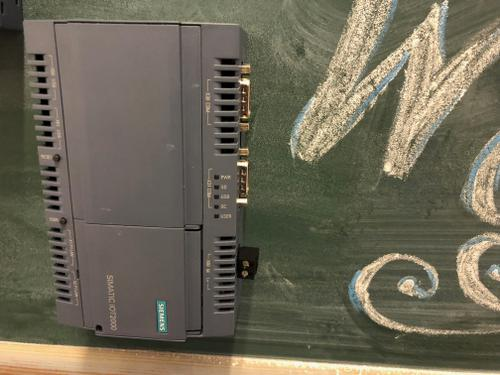device: (23, 20, 259, 341)
